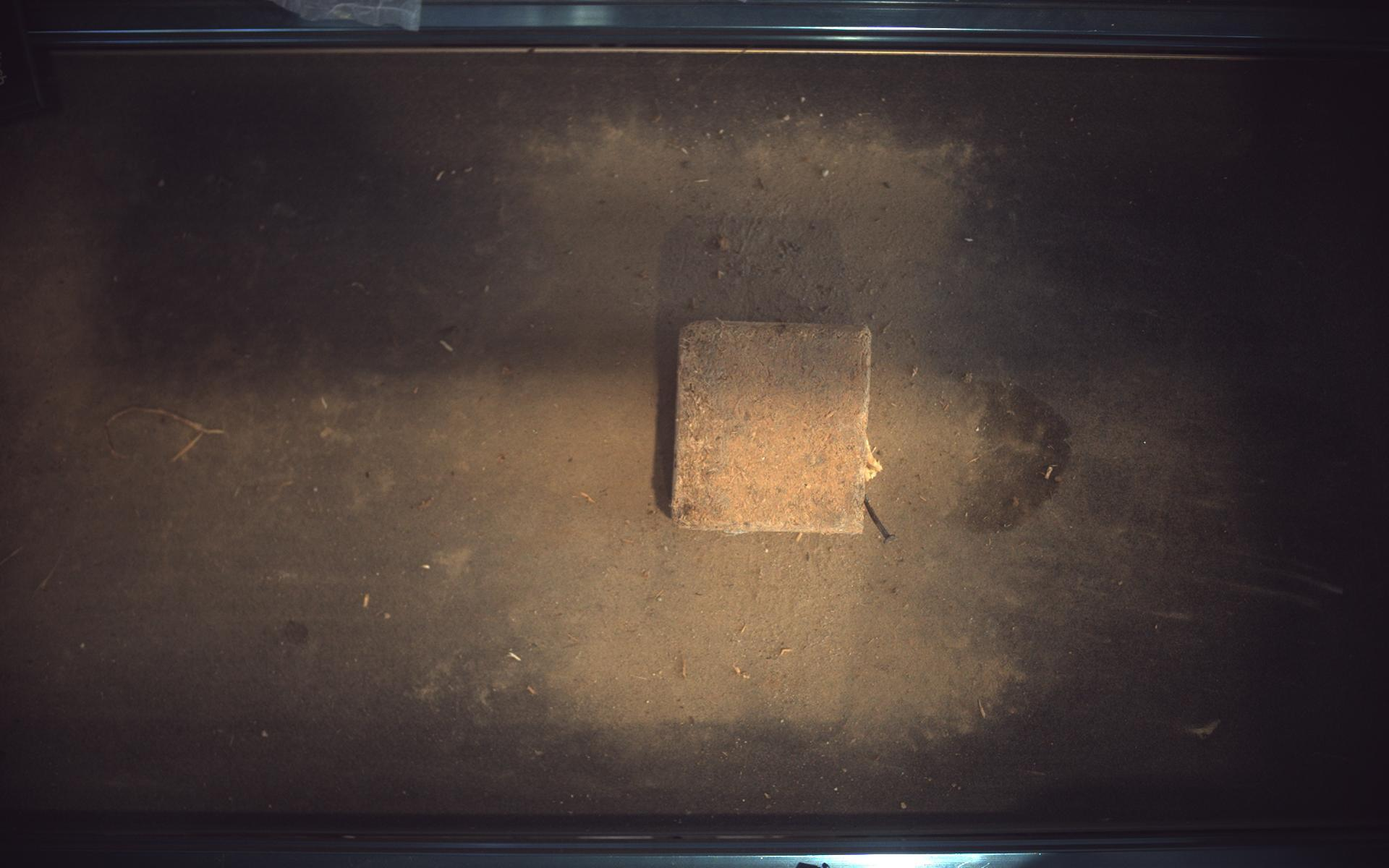wood: (672, 320, 883, 534)
